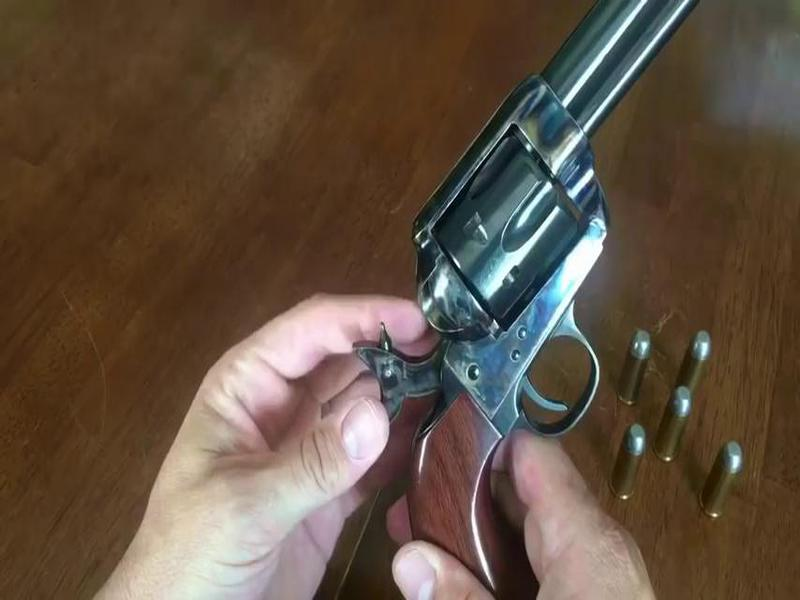Revolver: (394, 13, 695, 574)
